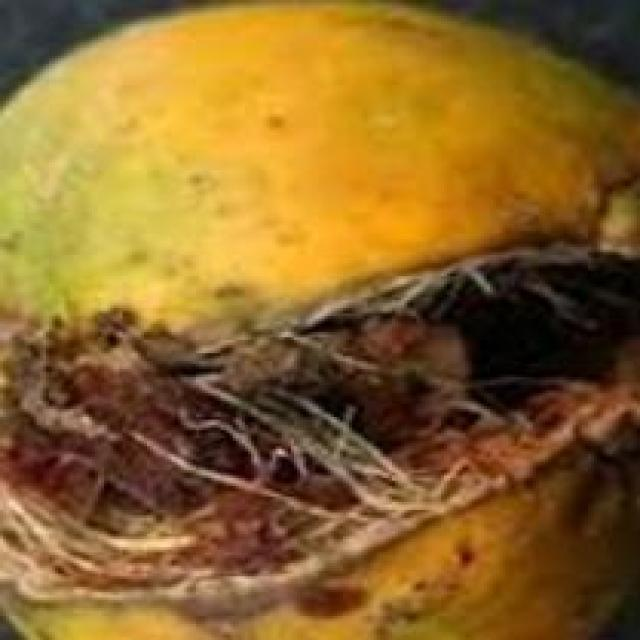damaged: (0, 3, 637, 637)
